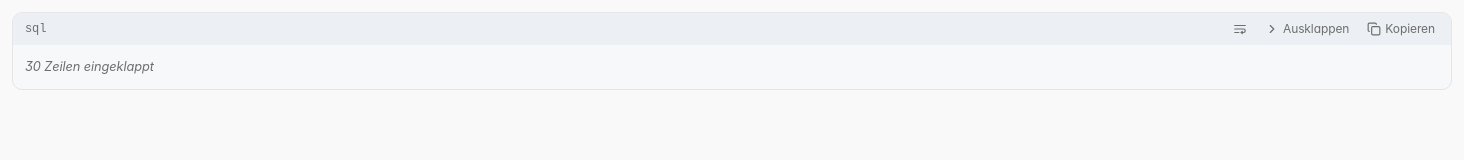
Test: CodeBlock Falten › faelt lange Bloecke erst nach dem Streamen; Ausklappen zeigt den Inhalt
The width and height of the screenshot is (1464, 160).
Expected: the button "30 Zeilen eingeklappt" is shown, [13,45,1451,89]
Expected: the button "Einklappen" is not shown
Step 1. Click the button "Ausklappen" → (1307, 29), box [1257,17,1357,41]
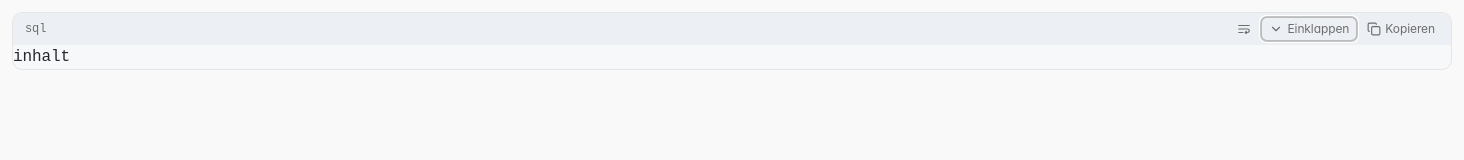
Now the element showing "inhalt" is shown, box [13,48,70,66]
Now the button "30 Zeilen eingeklappt" is gone
Now the button "Einklappen" is shown, box [1262,17,1357,41]
